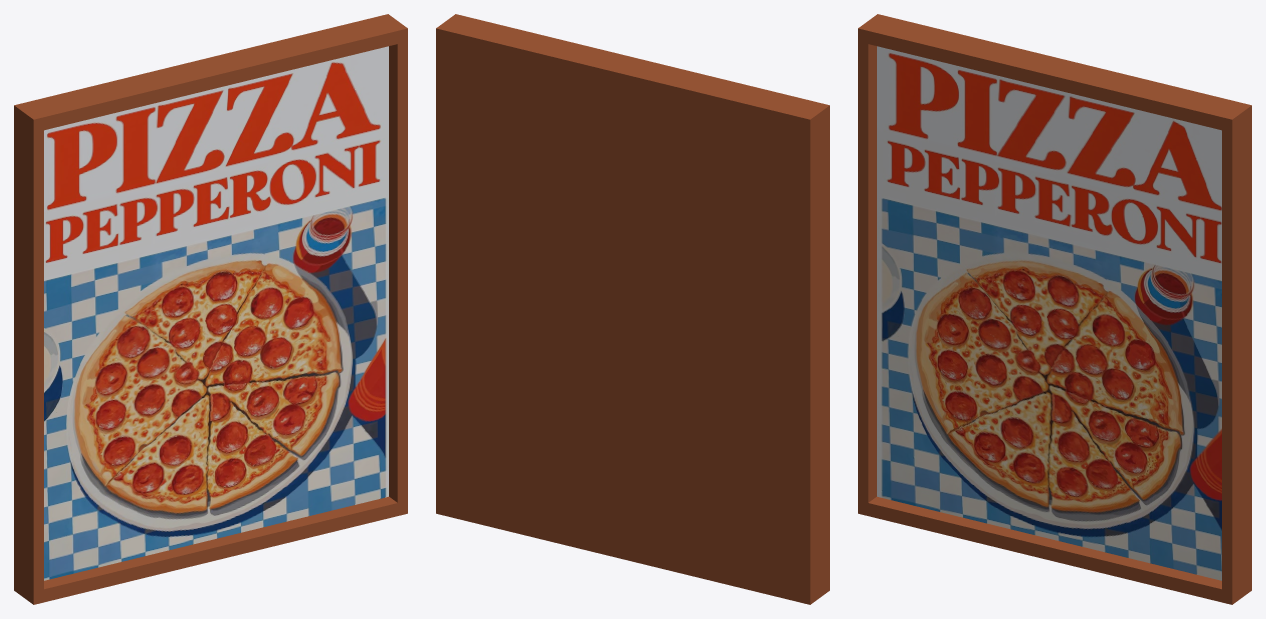
The model's file is italian_paint_c.fbx.
The picture shows the model from 3 angles, left to right: view 1: azimuth 30°, elevation 25°; view 2: azimuth 150°, elevation 25°; view 3: azimuth 330°, elevation 25°; orthographic projection.
Visible parts, largest first — view 1: Cube.010; view 2: Cube.010; view 3: Cube.010.
Boxes of the visible parts, x1,y1,x2,y2 form: Cube.010: (14, 14, 407, 604); Cube.010: (436, 14, 829, 604); Cube.010: (858, 14, 1251, 604).
Size of the model in its own units: 17.01 by 21.08 by 1.55.
